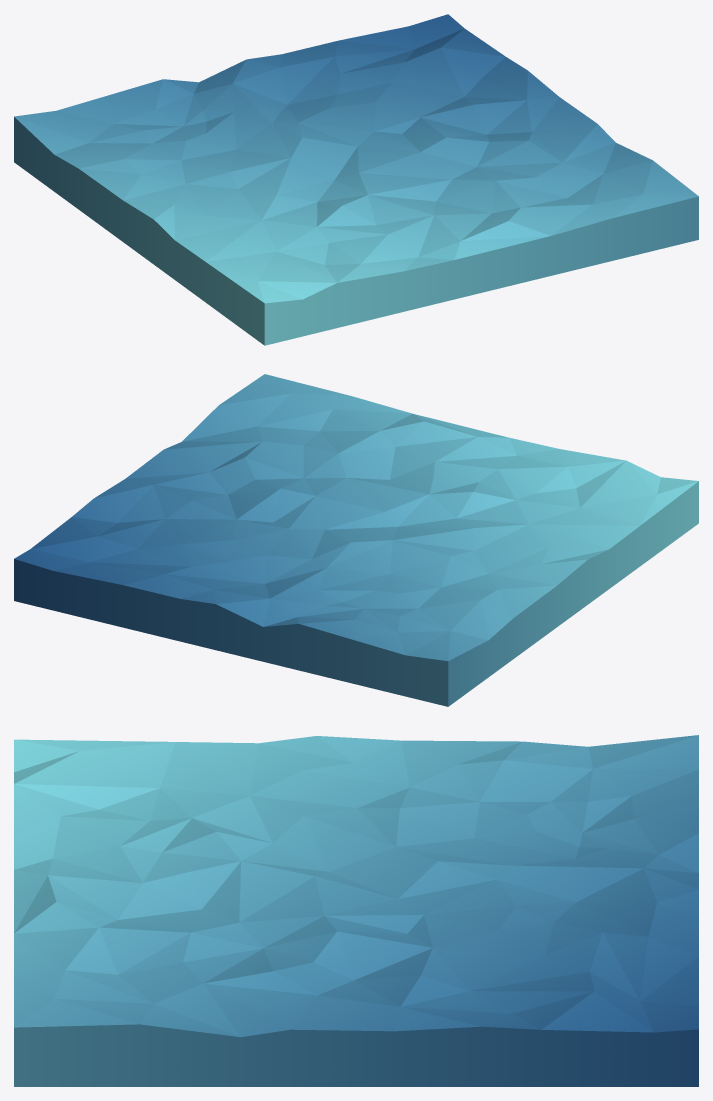
Rendered from water-location-pirates-battle.glb.
The picture shows the model from 3 angles, top to bottom: view 1: azimuth 30°, elevation 25°; view 2: azimuth 150°, elevation 25°; view 3: azimuth 270°, elevation 25°; orthographic projection. The views are drawn at different scales.
Parts seen in each view (by area): view 1: water location pirates battle; view 2: water location pirates battle; view 3: water location pirates battle.
Part boxes in pixels (bbox=[...]): water location pirates battle: bbox=[14, 14, 698, 345]; water location pirates battle: bbox=[14, 374, 698, 706]; water location pirates battle: bbox=[14, 735, 698, 1086].
Bounding box in the file's own units: 45 × 4.96 × 45.
Materials: 1 (1 with a texture image).
